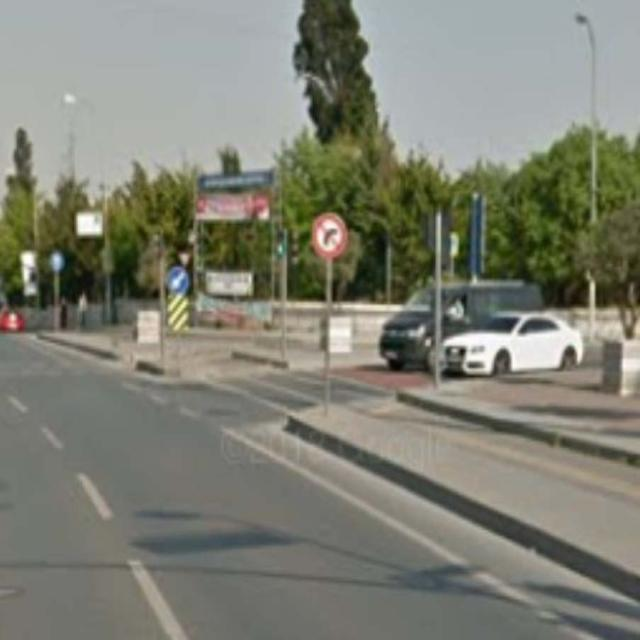sagadonulmez: (314, 213, 347, 259)
